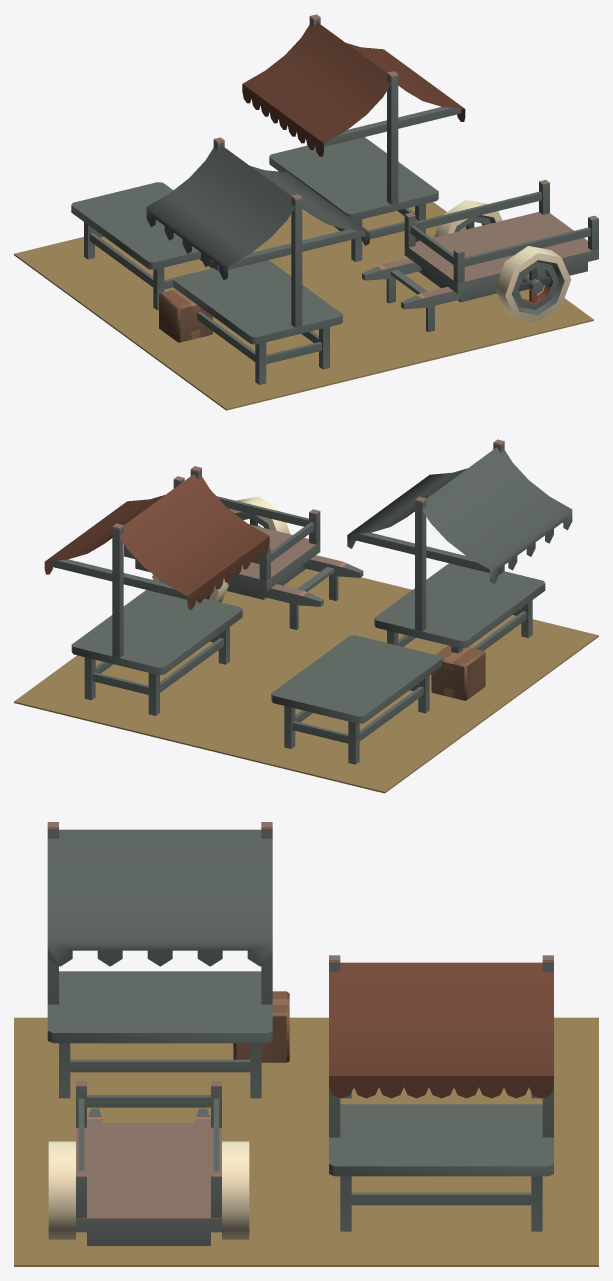
File: facility-market.glb
3 renders of one model, top to bottom at view 1: azimuth 30°, elevation 25°; view 2: azimuth 150°, elevation 25°; view 3: azimuth 270°, elevation 25°, orthographic. The views are drawn at different scales.
Parts seen in each view (by area): view 1: Original box, stall-red, stall-green, cart, stall, Group (×2), box; view 2: Original box, stall-green, stall-red, stall, cart, box, Group; view 3: Original box, stall-green, stall-red, cart, Group (×2), box.
Boxes of the visible parts, x1,y1,x2,y2 form: Original box: (14,202,593,410); stall-red: (146,137,369,384); stall-green: (242,14,465,261); cart: (362,179,598,331); stall: (71,182,213,310); Group (×2): (434,199,571,321); box: (159,289,212,342); Original box: (14,569,598,793); stall-green: (44,466,269,715); stall-red: (347,439,572,653); stall: (271,635,442,764); cart: (124,476,363,629); box: (431,645,485,700); Group: (228,496,290,533); Original box: (14,1017,598,1266); stall-green: (329,955,553,1231); stall-red: (47,822,272,1098); cart: (76,1081,221,1245); Group (×2): (48,1140,249,1239); box: (233,991,289,1062).
Size of the model in its own units: 2.79 by 1.24 by 2.6.
3 materials, 2 textured.
